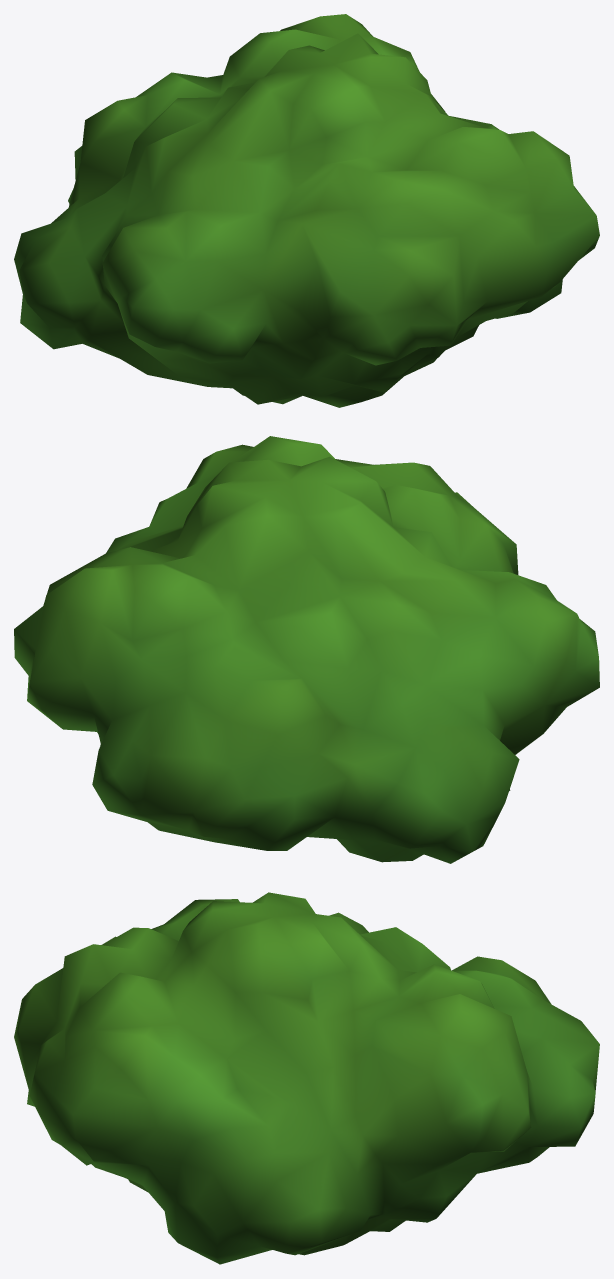
File: bush-a.glb
The picture shows the model from 3 angles, top to bottom: view 1: azimuth 30°, elevation 25°; view 2: azimuth 150°, elevation 25°; view 3: azimuth 270°, elevation 25°; orthographic projection. The views are drawn at different scales.
Parts seen in each view (by area): view 1: Bush A Leaves; view 2: Bush A Leaves; view 3: Bush A Leaves.
Boxes of the visible parts, box(x1,y1,x2,y2) form: Bush A Leaves: box(14, 14, 599, 407); Bush A Leaves: box(14, 436, 599, 863); Bush A Leaves: box(14, 892, 599, 1264).
Bounding box in the file's own units: 1.89 × 1.19 × 1.95.
